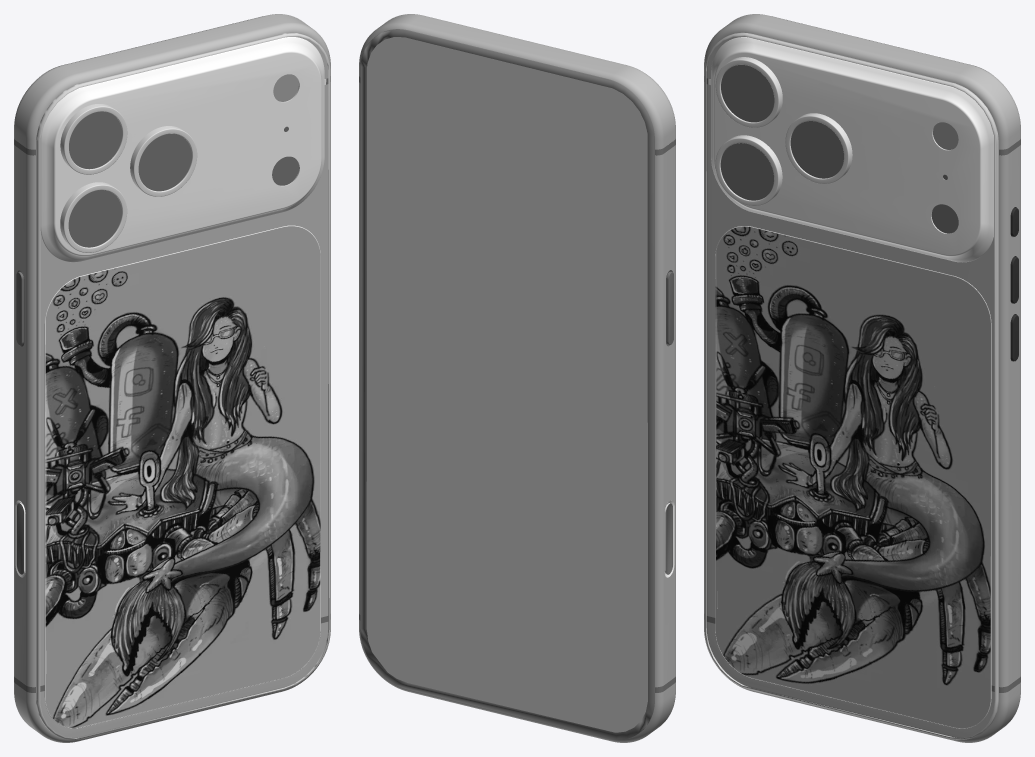
File: smo.glb
The picture shows the model from 3 angles, left to right: view 1: azimuth 30°, elevation 25°; view 2: azimuth 150°, elevation 25°; view 3: azimuth 330°, elevation 25°; orthographic projection.
Visible parts, largest first — view 1: phone.005; view 2: phone.005; view 3: phone.005.
Boxes of the visible parts, x1=… form: phone.005: x1=14, y1=14, x2=330, y2=742; phone.005: x1=359, y1=14, x2=675, y2=742; phone.005: x1=704, y1=14, x2=1020, y2=742.
Size of the model in its own units: 128 by 266 by 21.34.
Materials: 17 (1 with a texture image).
